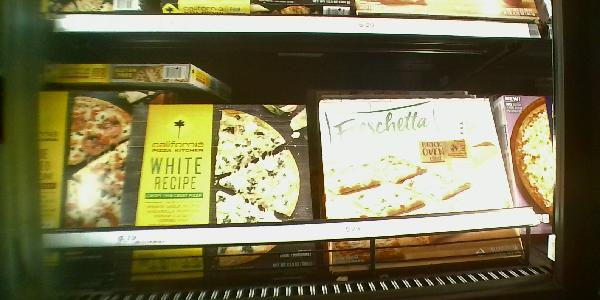pizza: (329, 93, 514, 266), (136, 102, 315, 274), (34, 91, 144, 276)
pizza1: (501, 97, 558, 261), (37, 64, 199, 85)
